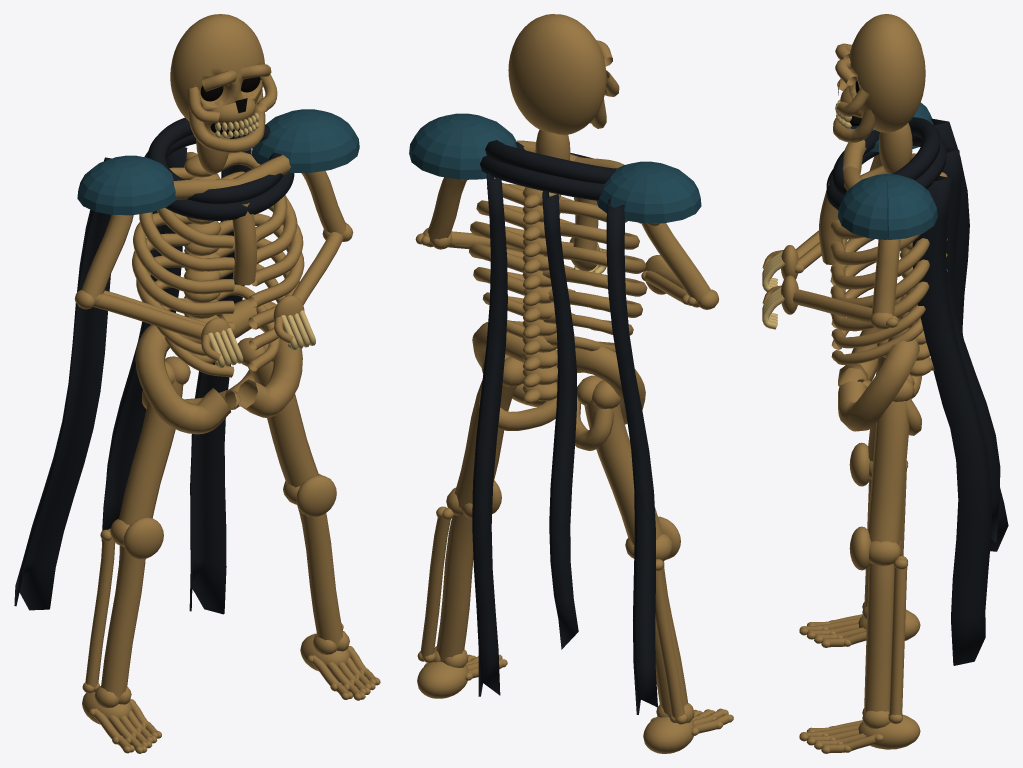
File: skeleton-warrior.obj
The picture shows the model from 3 angles, left to right: view 1: azimuth 30°, elevation 25°; view 2: azimuth 150°, elevation 25°; view 3: azimuth 270°, elevation 25°; orthographic projection. The views are drawn at different scales.
Visible parts, largest first — view 1: Aged_ivory, Cloth_folds, Oxidized_blue_armor, Teeth, Cavities; view 2: Aged_ivory, Cloth_folds, Oxidized_blue_armor; view 3: Aged_ivory, Cloth_folds, Oxidized_blue_armor, Teeth.
Boxes of the visible parts, bbox=[...] form: Aged_ivory: bbox=[75, 14, 380, 753]; Cloth_folds: bbox=[14, 117, 294, 614]; Oxidized_blue_armor: bbox=[77, 109, 359, 215]; Teeth: bbox=[207, 112, 315, 368]; Cavities: bbox=[200, 77, 260, 134]; Aged_ivory: bbox=[415, 14, 733, 753]; Cloth_folds: bbox=[472, 140, 657, 714]; Oxidized_blue_armor: bbox=[409, 113, 701, 223]; Aged_ivory: bbox=[762, 14, 947, 753]; Cloth_folds: bbox=[826, 117, 1008, 665]; Oxidized_blue_armor: bbox=[838, 102, 937, 239]; Teeth: bbox=[762, 100, 851, 329].
Bounding box in the file's own units: 1.26 × 2.86 × 0.9425.
